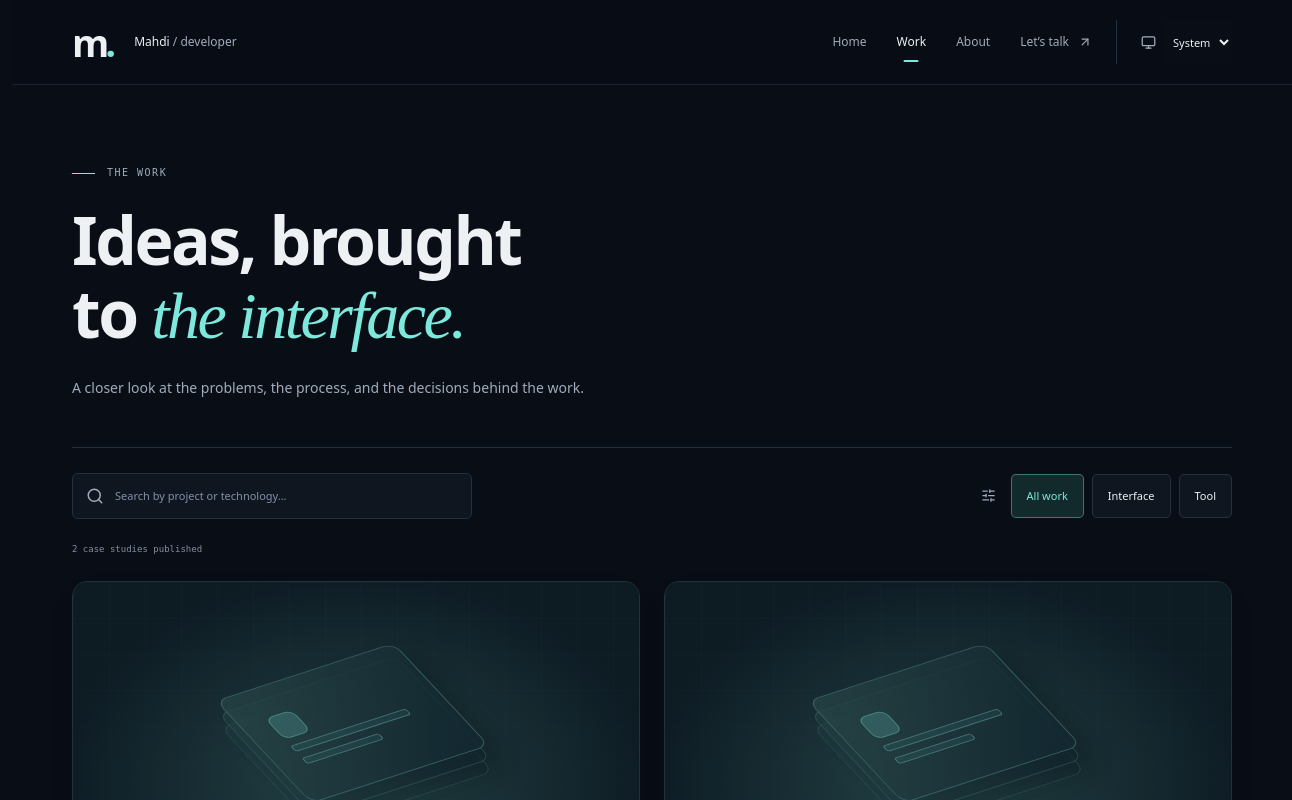
Scenario: search and category filters combine, update the URL, and preserve scroll
This screenshot has width=1292, height=800.
Expected: the message shows "2 case studies", [72,544,202,554]
Step 1. Type "  typescript" into the search field → (286, 496), box [115,474,458,518]
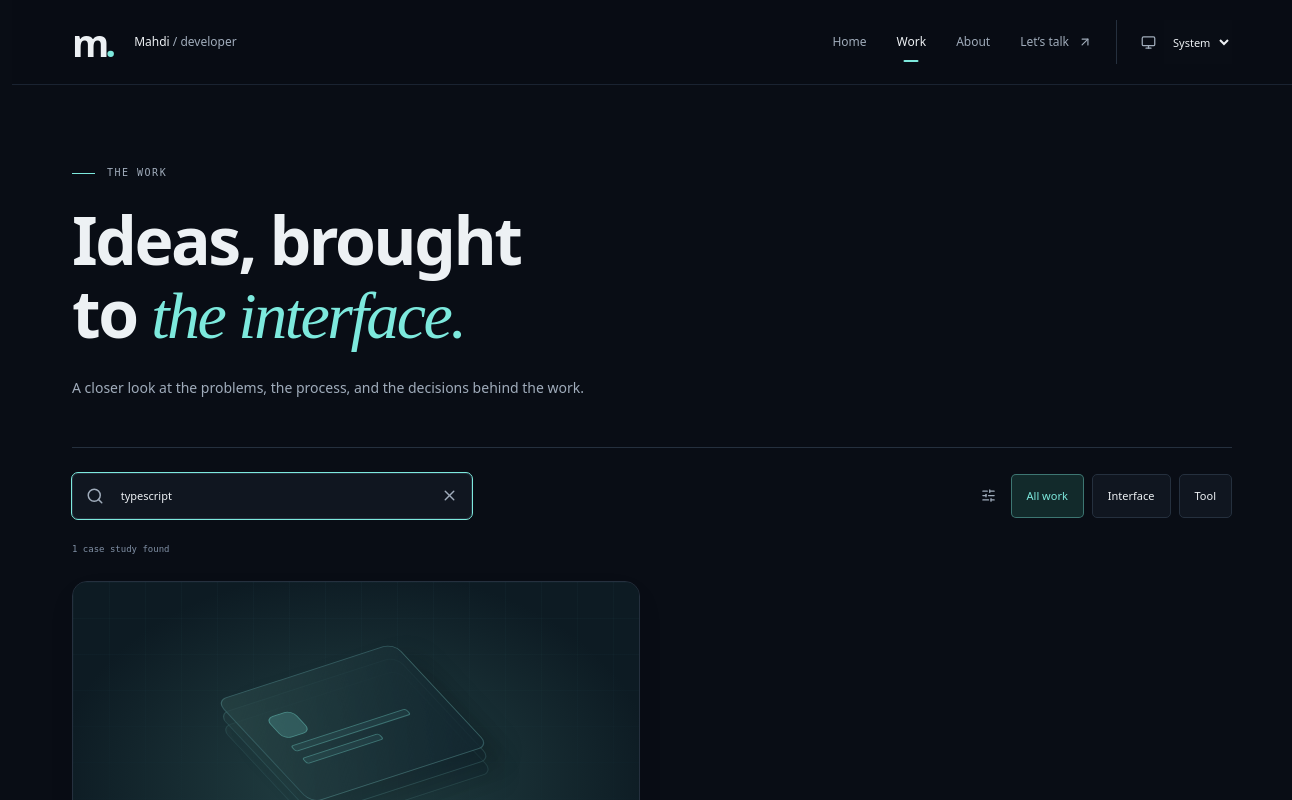
Expected: the message shows "1 case study", [72,544,170,554]
Step 2. Click the button "Tool" → click(1205, 496), box [1178,474,1232,518]
(page scrolled)
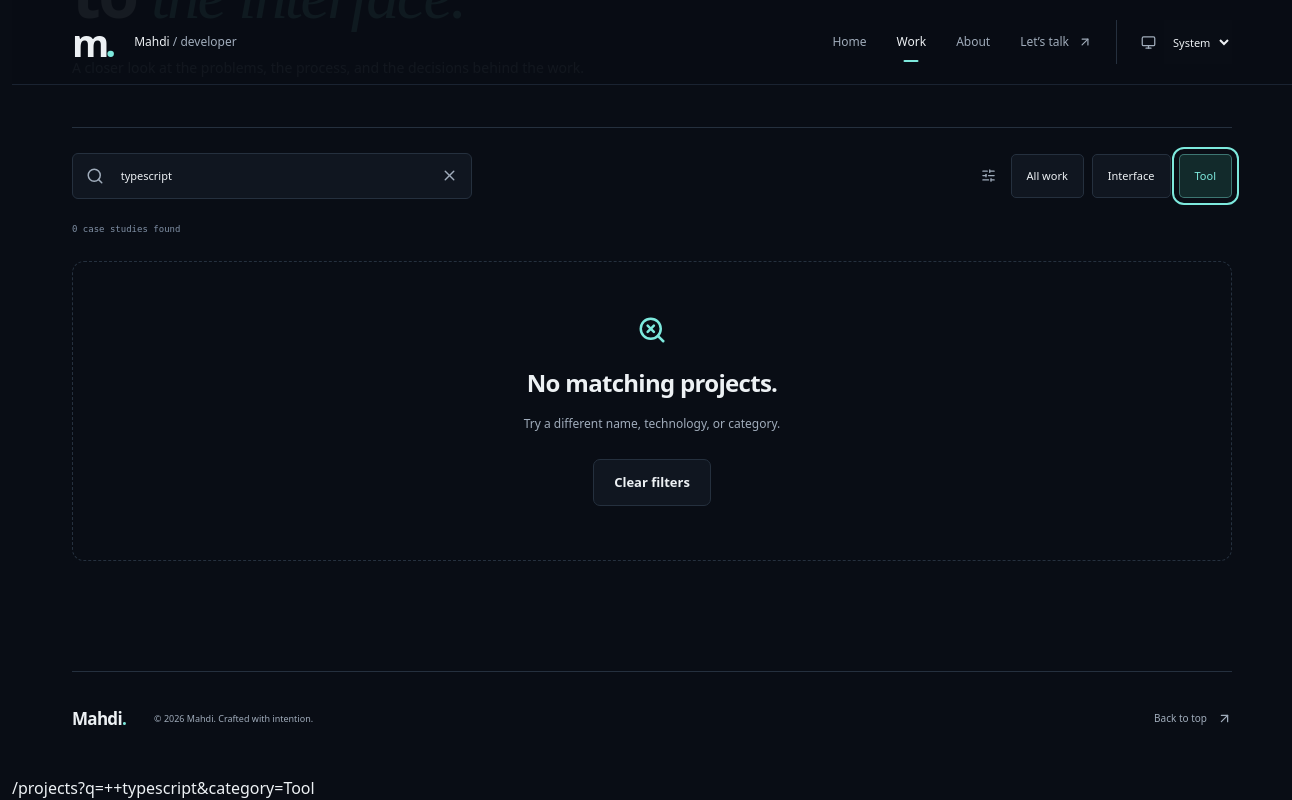
Expected: the heading "No matching projects." is shown, [527,365,777,401]
Expected: the text with test id "location" shows "category=Tool", [78,776,315,798]
Step 3. Click the button "Clear filters" → click(652, 482), box [593,459,711,506]
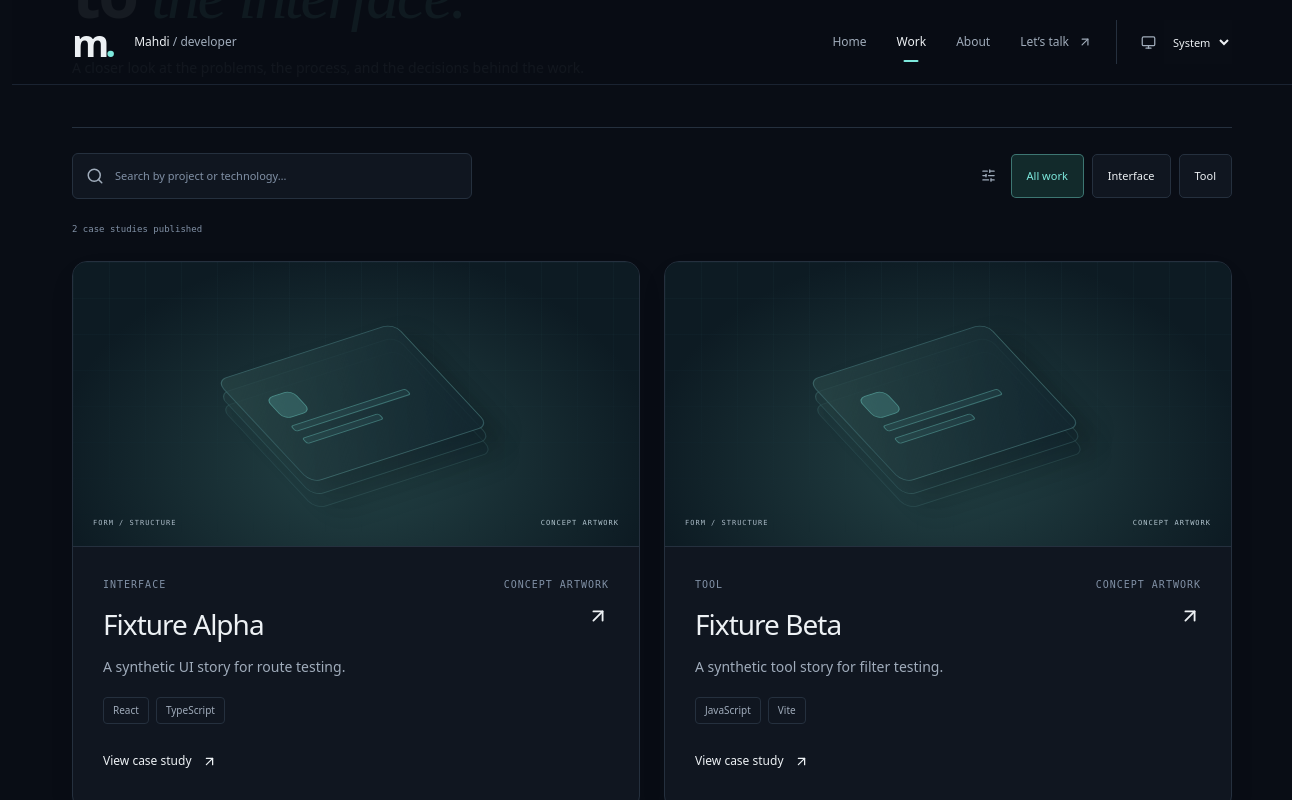
Expected: the message shows "2 case studies", [72,224,202,234]
Step 4. Click the button "Tool" → click(1205, 176), box [1178,154,1232,198]
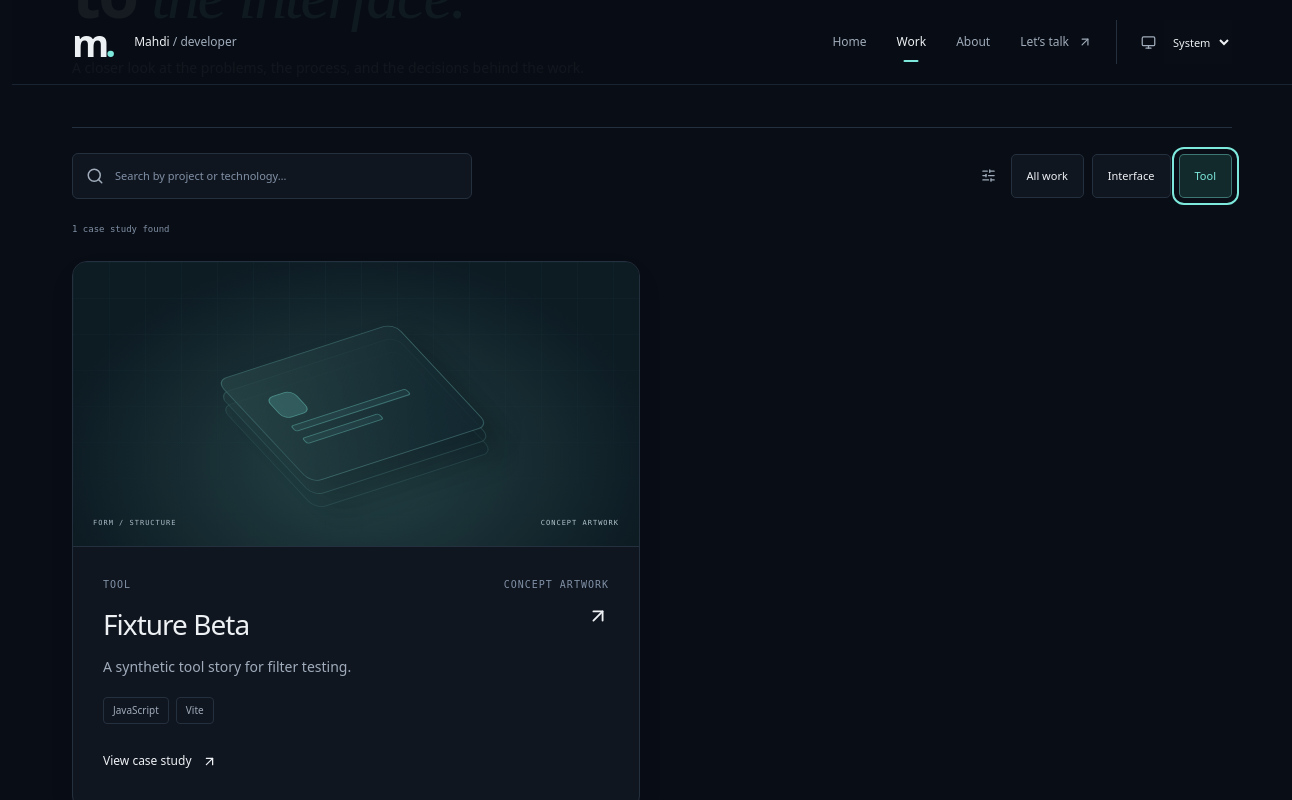
Expected: the heading "Fixture Beta" is shown, [103,604,609,644]
Expected: the link "Fixture Alpha" is gone
